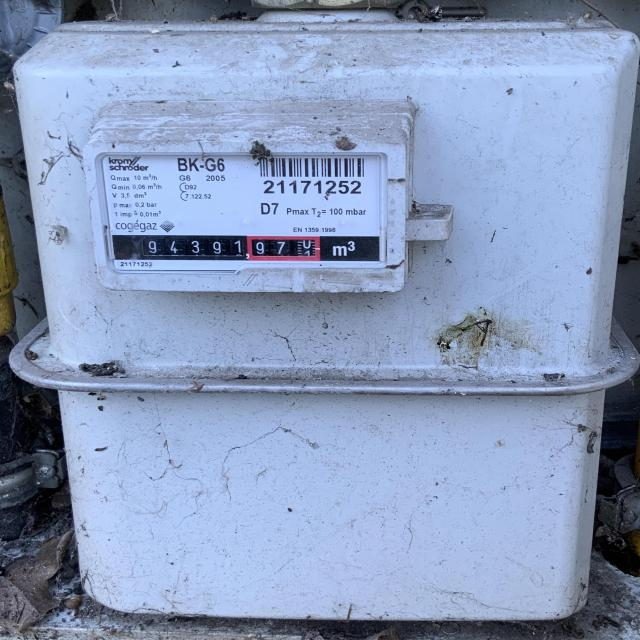gaz_meter: (100, 153, 385, 268)
indication: (114, 236, 320, 262)
